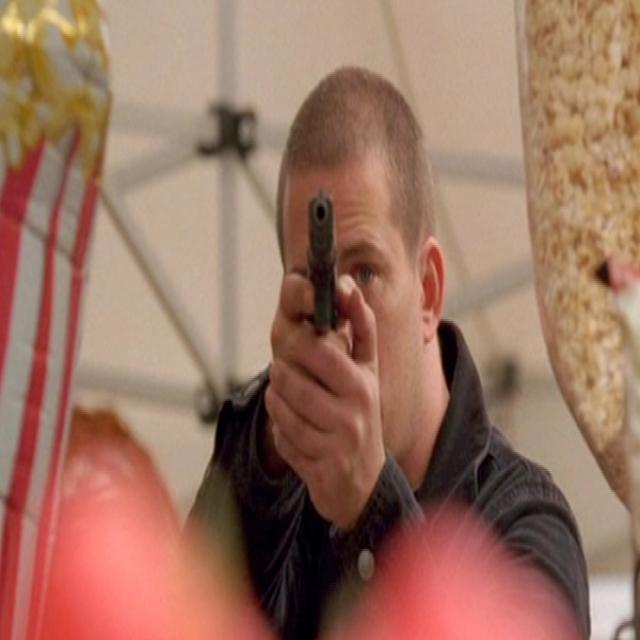weapons: (287, 157, 362, 440)
